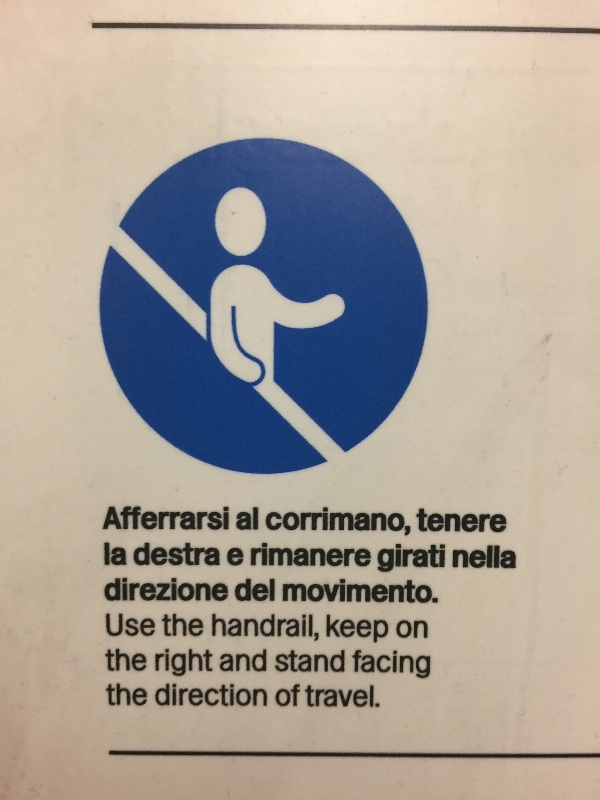text: (273, 502, 288, 536), (289, 502, 304, 536), (305, 502, 320, 536), (321, 502, 336, 536), (337, 502, 352, 536), (353, 502, 368, 536), (369, 502, 384, 536), (385, 502, 400, 536), (337, 613, 352, 645), (353, 613, 368, 645), (369, 613, 384, 645), (353, 649, 368, 680), (369, 649, 384, 680), (385, 649, 400, 680), (401, 649, 416, 680), (385, 544, 400, 573), (401, 544, 416, 573), (417, 544, 432, 573), (225, 613, 240, 642), (241, 613, 256, 642), (257, 613, 272, 642), (273, 613, 288, 642), (289, 613, 304, 642), (161, 649, 176, 678), (177, 649, 192, 678), (193, 649, 208, 678), (417, 649, 431, 680), (289, 577, 304, 605), (305, 577, 320, 605), (321, 577, 336, 605), (337, 577, 352, 605), (353, 577, 368, 605), (369, 577, 384, 605), (385, 577, 400, 605), (401, 577, 416, 605), (417, 577, 432, 605), (305, 613, 319, 642), (465, 542, 480, 569), (481, 542, 496, 569), (497, 542, 512, 569), (417, 508, 432, 534), (433, 508, 448, 534), (449, 508, 464, 534), (465, 508, 480, 534), (481, 508, 496, 534), (113, 576, 128, 602), (129, 576, 144, 602), (145, 576, 160, 602), (161, 576, 176, 602), (177, 576, 192, 602), (193, 576, 208, 602), (209, 576, 224, 602), (433, 544, 446, 573), (241, 506, 256, 531), (257, 542, 272, 567), (273, 542, 288, 567), (289, 542, 304, 567), (305, 542, 320, 567), (321, 542, 336, 567), (337, 542, 352, 567), (353, 542, 368, 567), (113, 506, 128, 530), (129, 506, 144, 530), (145, 506, 160, 530), (161, 506, 176, 530), (177, 506, 192, 530), (193, 506, 208, 530), (209, 506, 224, 530), (145, 542, 160, 566), (161, 542, 176, 566), (177, 542, 192, 566), (193, 542, 208, 566), (161, 613, 176, 637), (177, 613, 192, 637), (113, 613, 128, 637), (129, 613, 144, 637), (241, 579, 256, 602), (257, 579, 272, 602), (289, 649, 304, 672), (305, 649, 320, 672), (321, 649, 336, 672), (225, 649, 240, 672), (241, 649, 256, 672), (113, 649, 128, 672), (129, 649, 144, 672), (161, 684, 176, 707), (177, 684, 192, 707), (193, 684, 208, 707), (209, 684, 224, 707), (225, 684, 240, 707), (241, 684, 256, 707), (401, 502, 411, 536), (113, 542, 127, 566), (113, 684, 128, 706), (129, 684, 144, 706), (305, 686, 320, 708), (321, 686, 336, 708), (337, 686, 352, 708), (353, 686, 368, 708), (213, 613, 224, 642), (453, 542, 464, 569), (209, 542, 221, 566), (327, 613, 336, 645), (276, 683, 288, 707), (289, 683, 301, 707), (401, 620, 416, 638), (497, 508, 507, 534), (277, 649, 288, 672), (227, 547, 240, 566), (369, 686, 380, 708), (134, 542, 144, 566), (193, 613, 203, 637), (145, 613, 155, 637), (257, 649, 267, 672), (257, 684, 267, 707), (266, 502, 272, 536), (417, 620, 428, 638), (385, 613, 391, 645), (337, 649, 345, 672), (104, 649, 112, 672), (105, 576, 112, 602), (378, 544, 384, 573), (105, 542, 112, 566), (433, 577, 439, 605), (105, 684, 112, 706), (155, 649, 160, 678), (106, 613, 112, 637), (283, 577, 288, 605), (251, 542, 256, 567), (225, 506, 230, 530), (209, 649, 213, 678), (155, 684, 160, 707), (513, 542, 517, 569), (236, 579, 240, 602), (220, 649, 224, 672), (225, 576, 228, 602), (237, 506, 240, 531), (109, 506, 112, 530), (397, 620, 400, 638), (257, 506, 259, 531), (369, 542, 371, 567), (273, 579, 275, 602), (145, 684, 147, 706), (241, 547, 243, 566), (145, 649, 146, 672)
